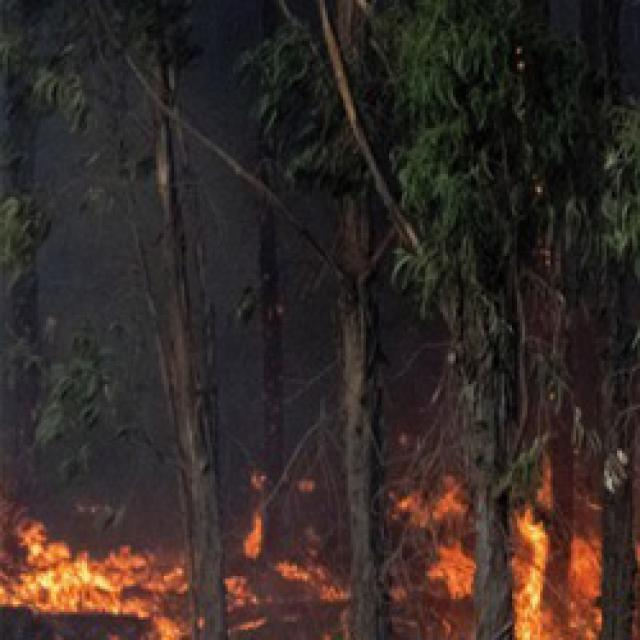Fire: (0, 464, 239, 640), (335, 409, 509, 640), (458, 468, 640, 640), (192, 454, 360, 619)
